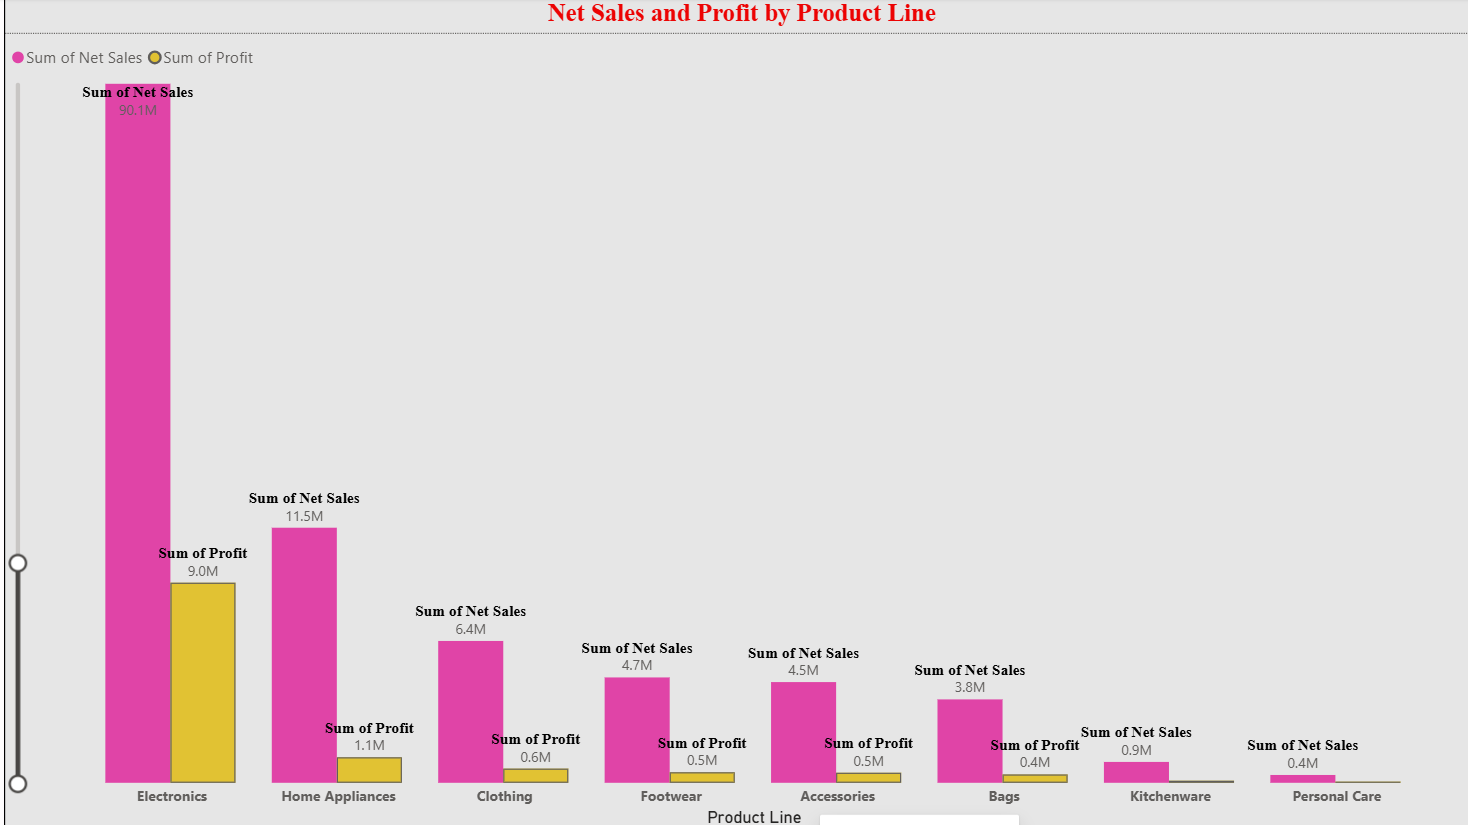

Layout of this report page (visuals, bound fields, positions):
{"tool":"powerbi","page":{"name":"Sales and Profit for Product Comparision","canvas":[1280,720],"ordinal":5},"visuals":[{"type":"clusteredColumnChart","title":"Net Sales and Profit by Product Line","fields":{"Category":["Dim Product.Product Line"],"Y":["Sum(Fact Table.Net Sales)","Sum(Fact Table.Profit)"]},"box":[9.8,0,1270.5,720.2],"z":0}]}

Visuals, with their boxes in screenshot pixels (x1, y1, x2, y2), scaled from the page's 1280x720 canvas onto the 1468x825 screenshot:
"Net Sales and Profit by Product Line" clusteredColumnChart: 11/0/1467/824
